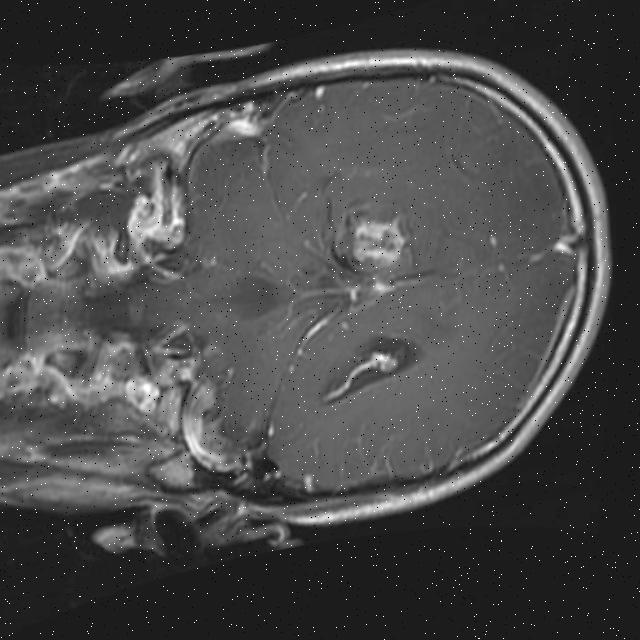Glioma: (344, 210, 411, 271)
